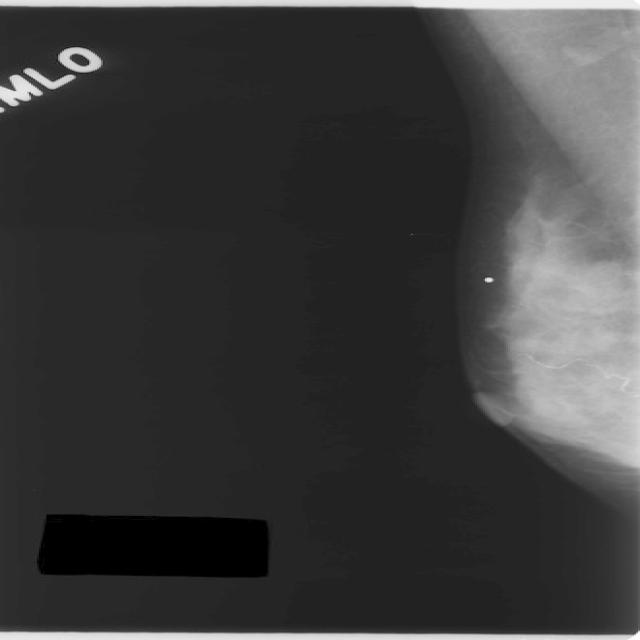tumour: (568, 259, 624, 311)
